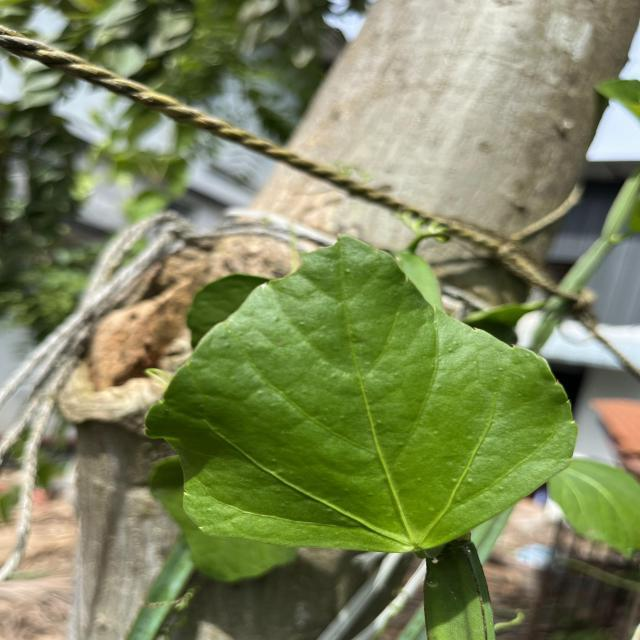Cissus quadrangularis: (140, 227, 580, 558)
